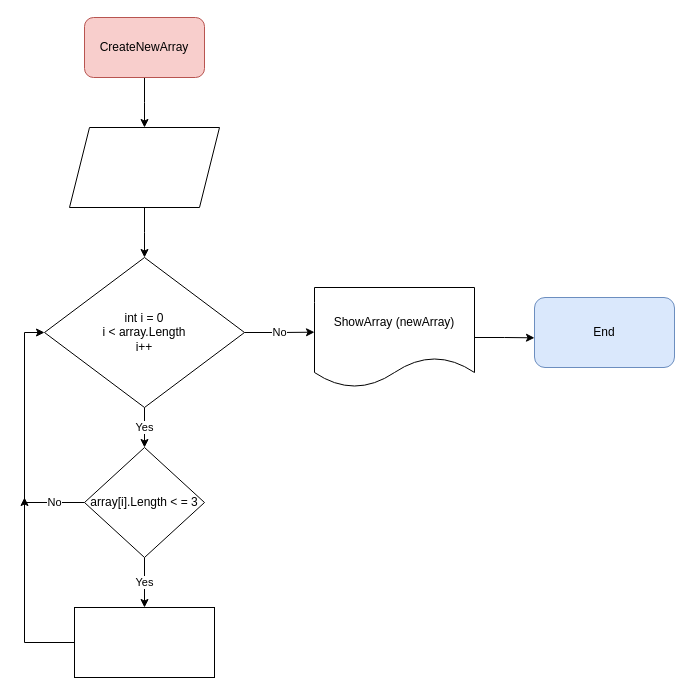
Some shapes in this 692 by 695 pixel diagram are drawn without their labels. The shapes that lost their labels are listed below. From the top down, each one's centre as x and y in pixels, then its label:
At (x=144, y=167): "string [] array string[] newArray int size int count = 0".
At (x=144, y=642): "newArray[count] = array[i] count++".
